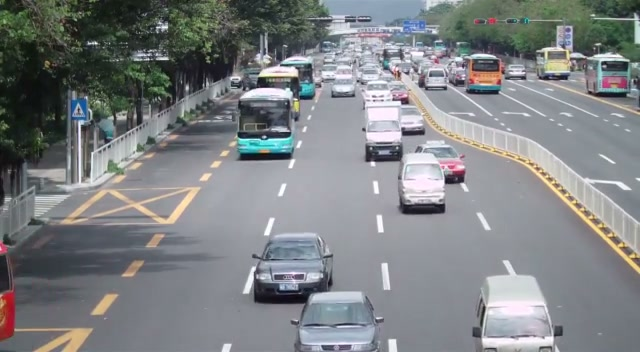bus: (236, 87, 296, 159), (256, 66, 301, 122), (584, 53, 630, 96), (0, 240, 17, 342), (465, 53, 503, 94), (280, 56, 315, 99), (536, 47, 571, 80)
car: (471, 274, 564, 352), (290, 290, 385, 352), (251, 232, 334, 302), (397, 153, 447, 213), (363, 103, 403, 162), (415, 142, 466, 183), (399, 105, 425, 135), (330, 72, 356, 97), (423, 67, 448, 91), (388, 83, 410, 103), (506, 63, 527, 80)
truck: (362, 100, 403, 161), (536, 47, 571, 80)
